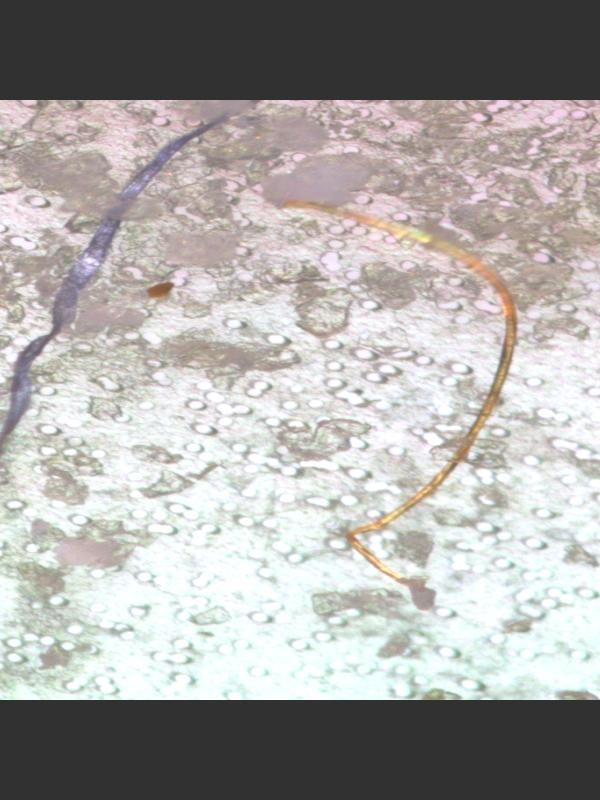microplastic: (275, 197, 518, 612), (0, 102, 262, 480)
